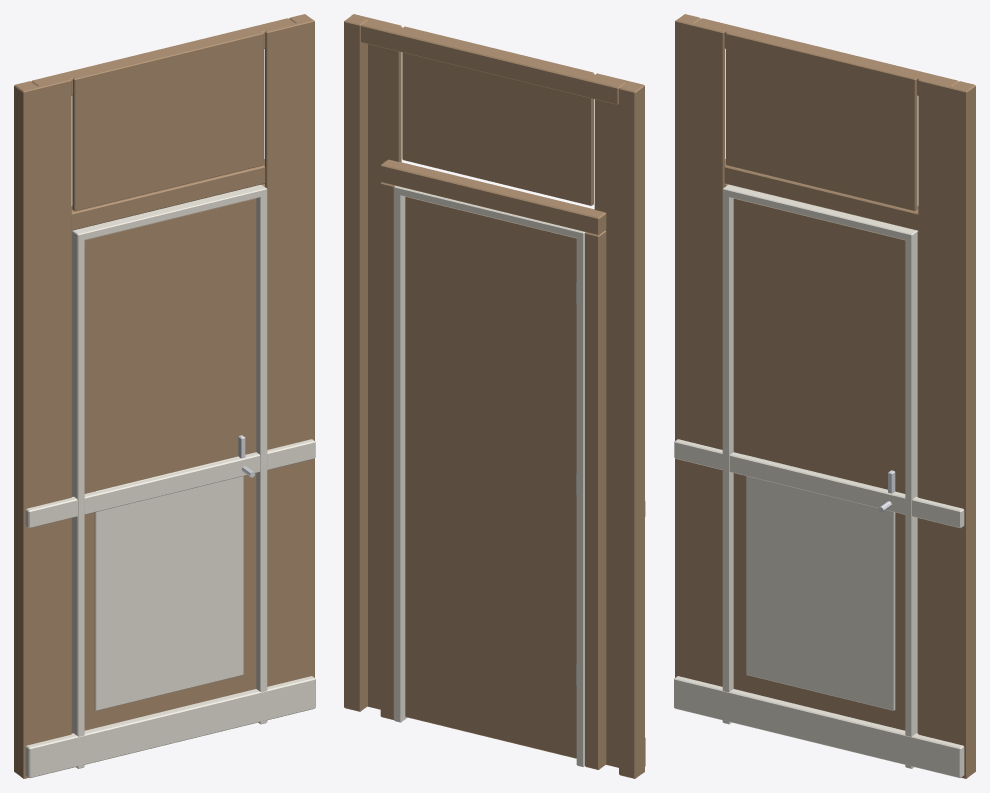
File: 35485_Set_Flat_with_a_Doorway__TV_Studio_and_Broadcast_Gallery_.glb
3 views of the same model, side by side, from view 1: azimuth 30°, elevation 25°; view 2: azimuth 150°, elevation 25°; view 3: azimuth 330°, elevation 25° (orthographic).
Visible parts, largest first — view 1: set-flat-with-doorway, door/timber, door/cream; view 2: set-flat-with-doorway, door/timber; view 3: set-flat-with-doorway, door/timber, door/cream.
Part boxes in pixels (left/top/right/bottom): set-flat-with-doorway: left=14, top=14, right=315, bottom=778; door/timber: left=84, top=198, right=256, bottom=730; door/cream: left=94, top=456, right=243, bottom=710; set-flat-with-doorway: left=344, top=14, right=645, bottom=778; door/timber: left=405, top=196, right=576, bottom=758; set-flat-with-doorway: left=674, top=14, right=975, bottom=778; door/timber: left=733, top=198, right=905, bottom=730; door/cream: left=746, top=455, right=895, bottom=710.
Bounding box in the file's own units: 1.2 × 2.7 × 0.157.
